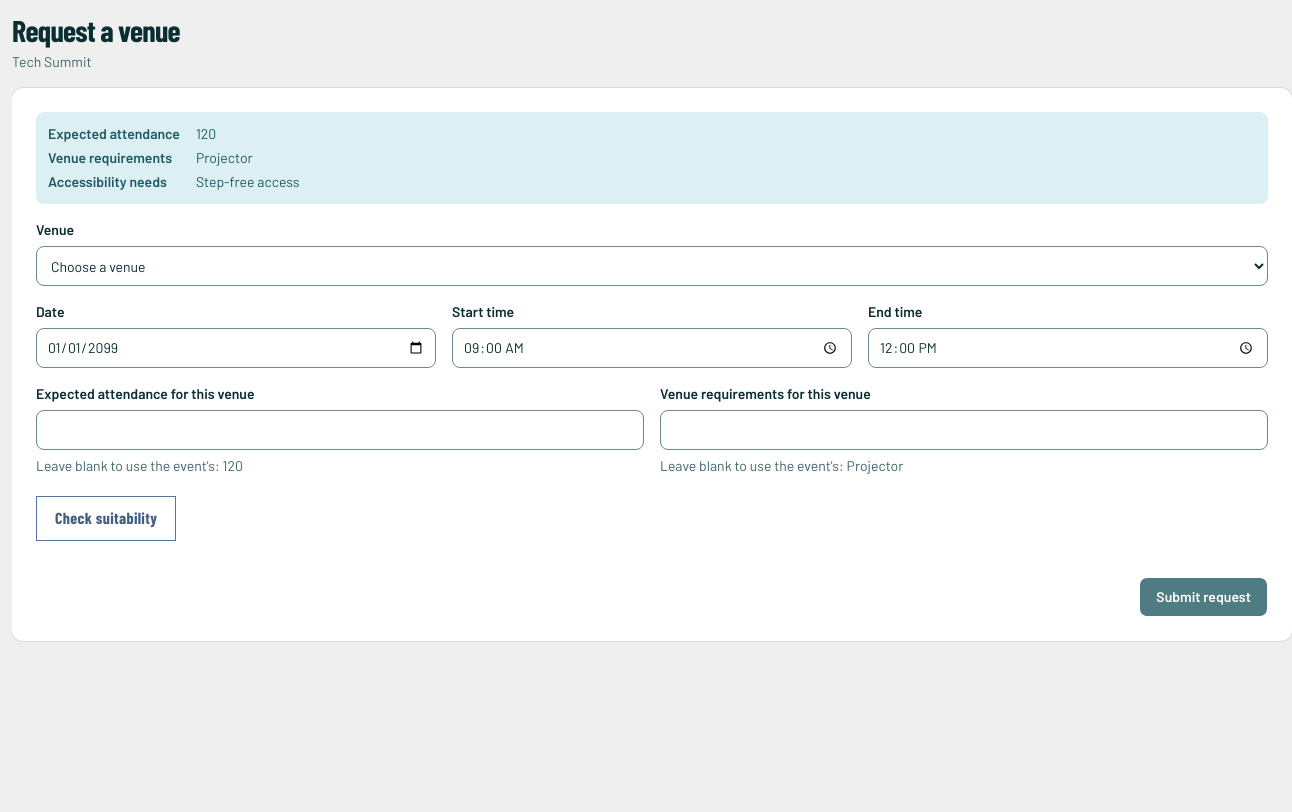
SCRUM-32/AC2 venue booking request form (32-S1, 32-S2, 32-S5) › shows venue-service's message and field errors when it refuses
Select "Grand Hall (capacity 200)" in the dropdown labelled "Venue" at (652, 266), box top-left (36, 246), bottom-right (1268, 286)
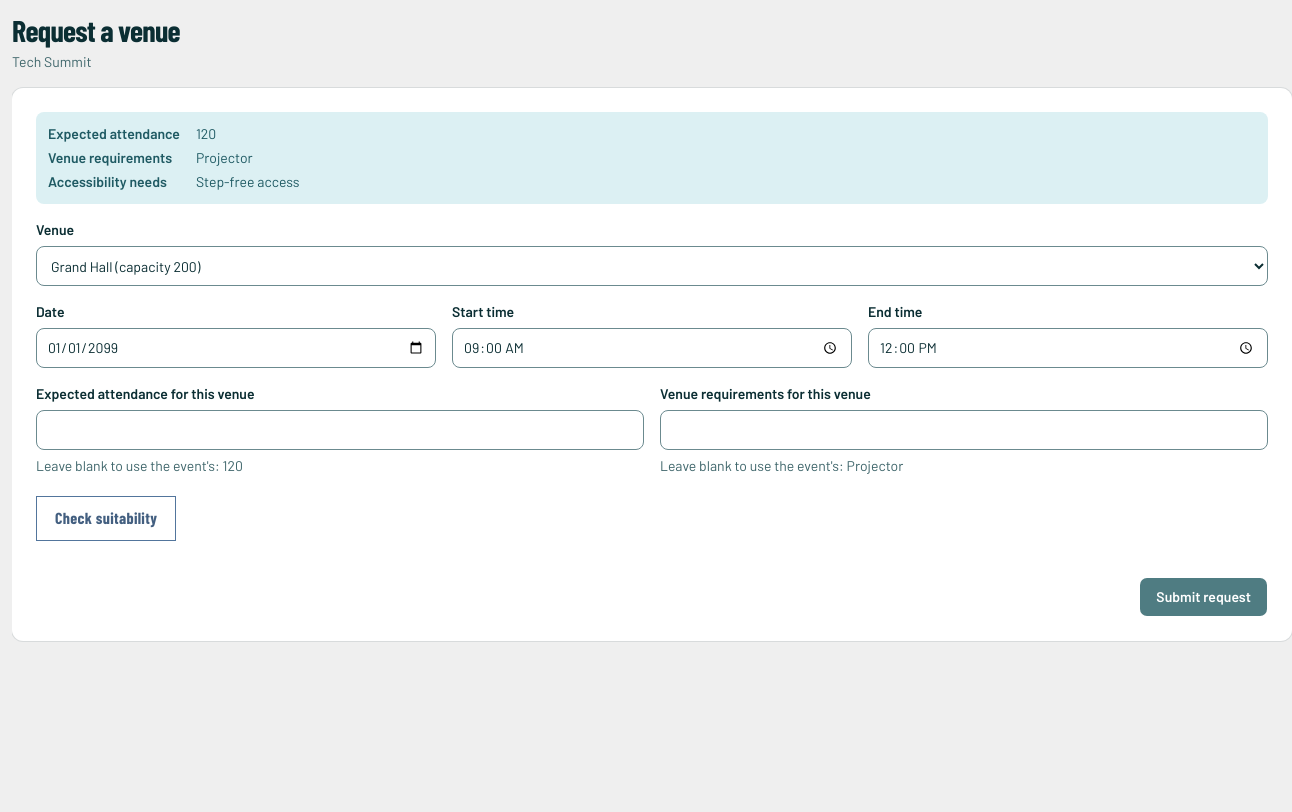
Click the button "Submit request" at (1204, 597), box top-left (1139, 577), bottom-right (1268, 617)
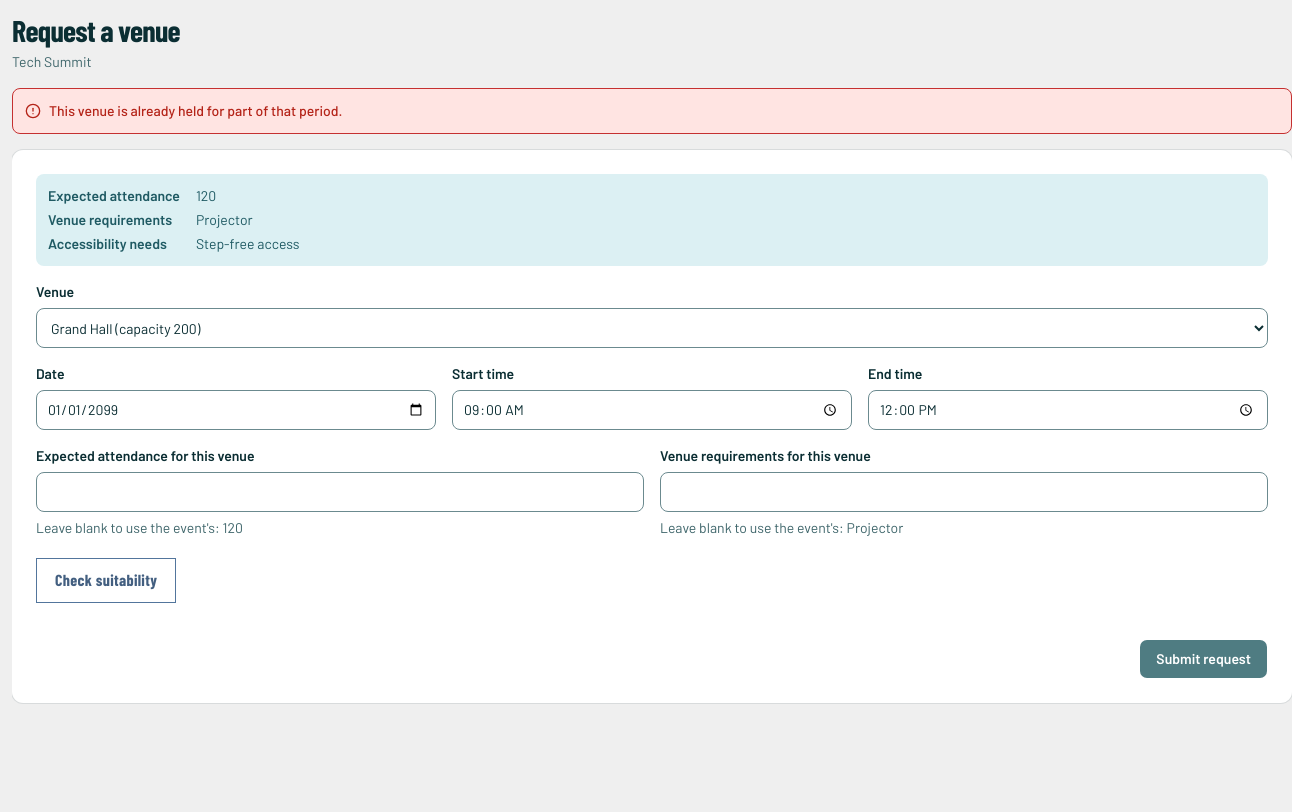
Check: the message reads "This venue is already held for part of that period.", box top-left (49, 102), bottom-right (342, 119)
Click the button "Submit request" at (1204, 659), box top-left (1139, 639), bottom-right (1268, 679)
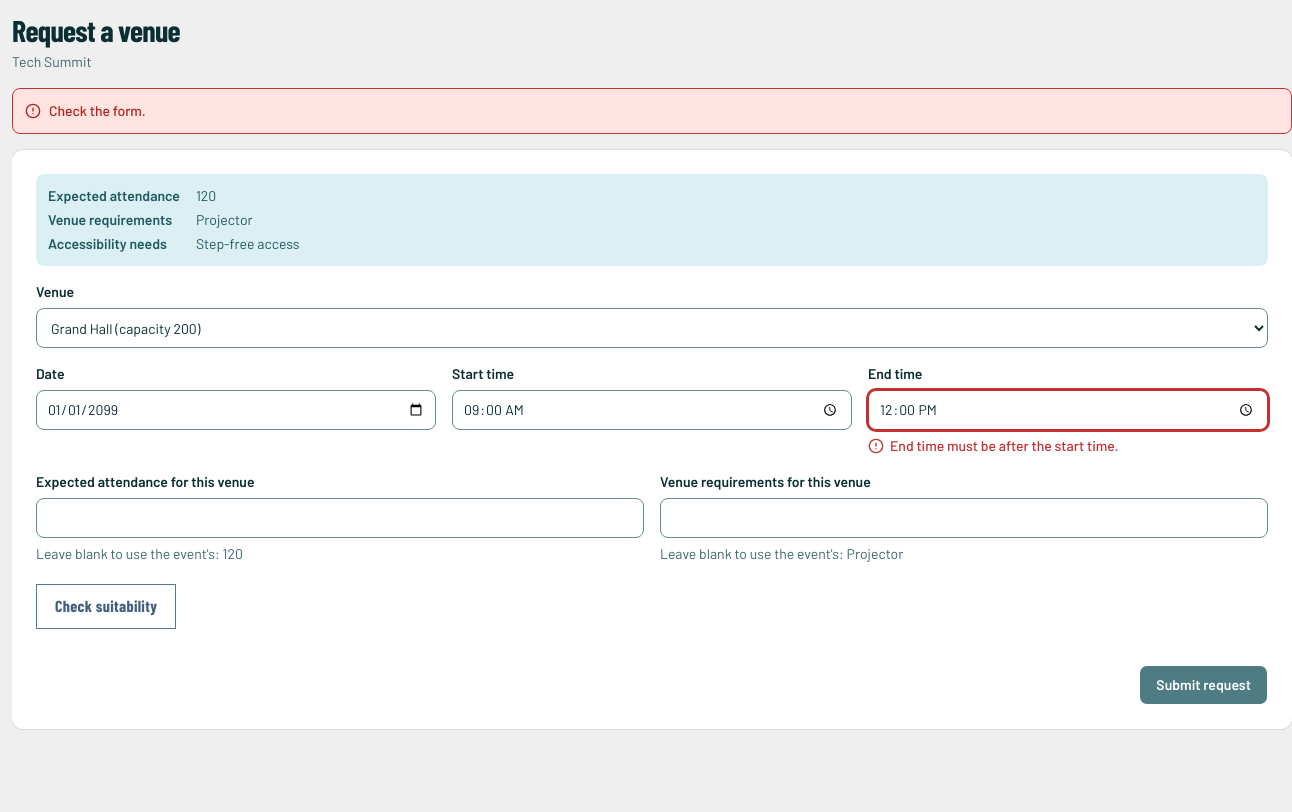
Check: the text "End time must be after the start time." is shown, box top-left (868, 437), bottom-right (1118, 454)
